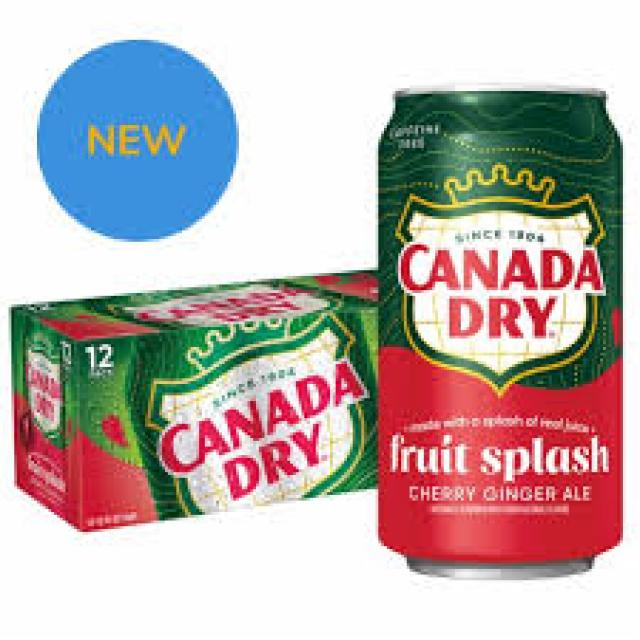Cans: (370, 77, 631, 589)
